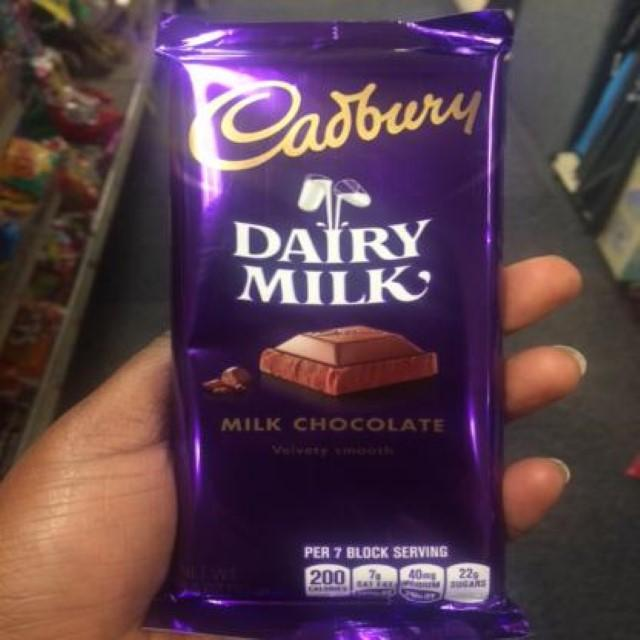cadbury_chocolate: (148, 18, 541, 640)
